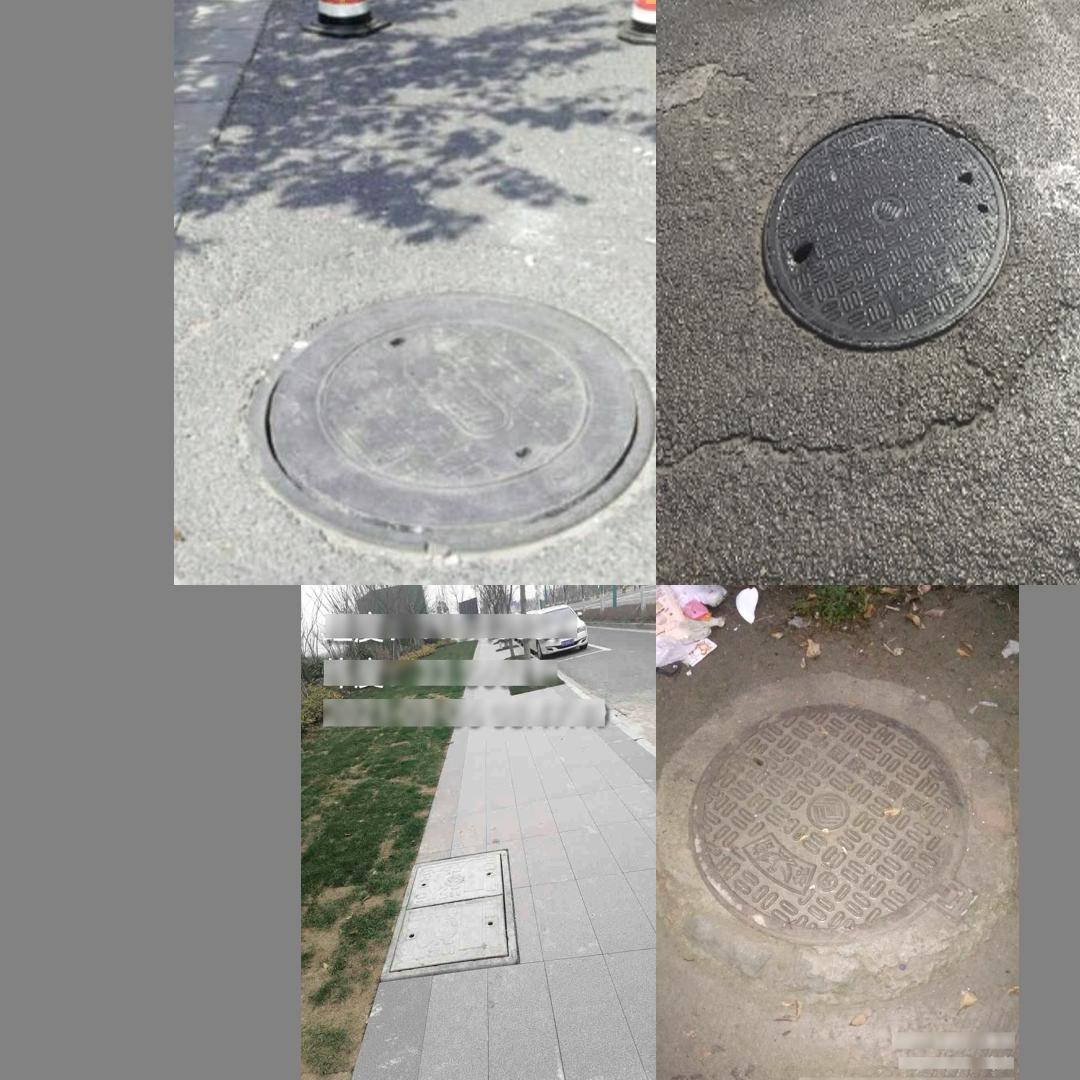good: (234, 284, 654, 556), (659, 679, 1003, 984), (761, 107, 1010, 348), (377, 859, 519, 983)
